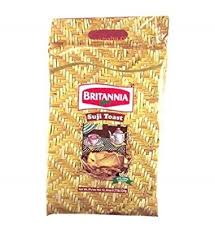Britania-toast-large: (45, 14, 173, 217)
